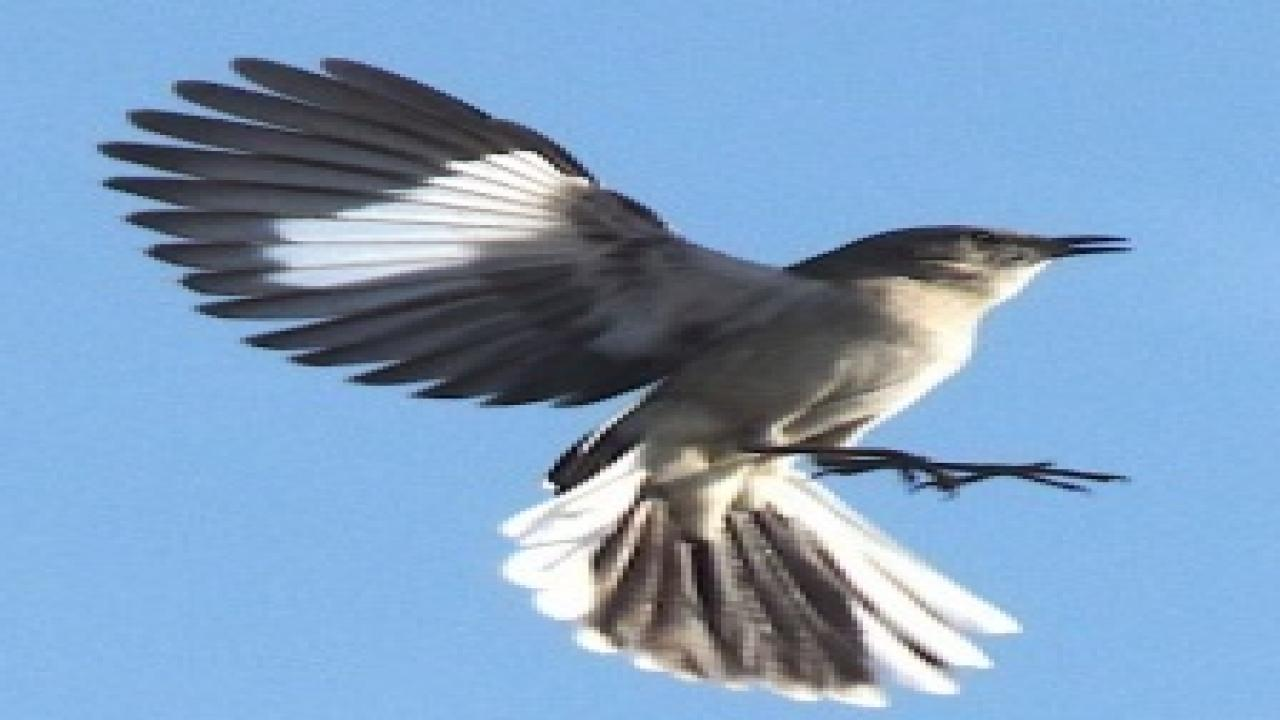Bird: (84, 46, 1151, 712)
